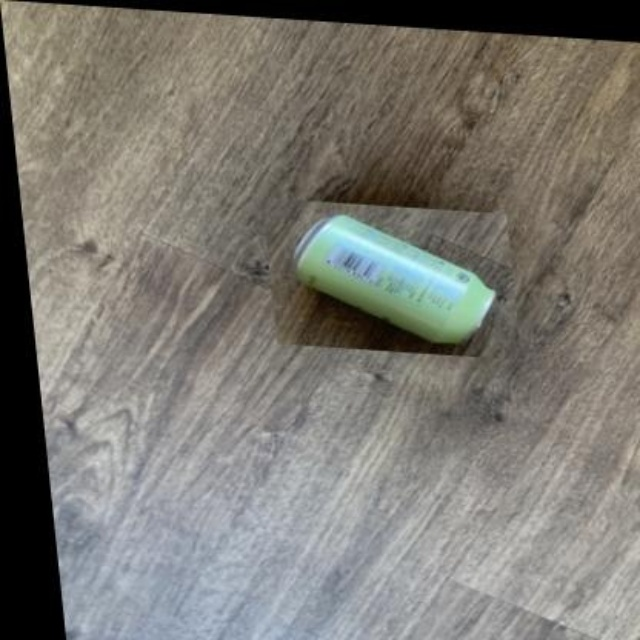trash: (295, 215, 492, 342)
